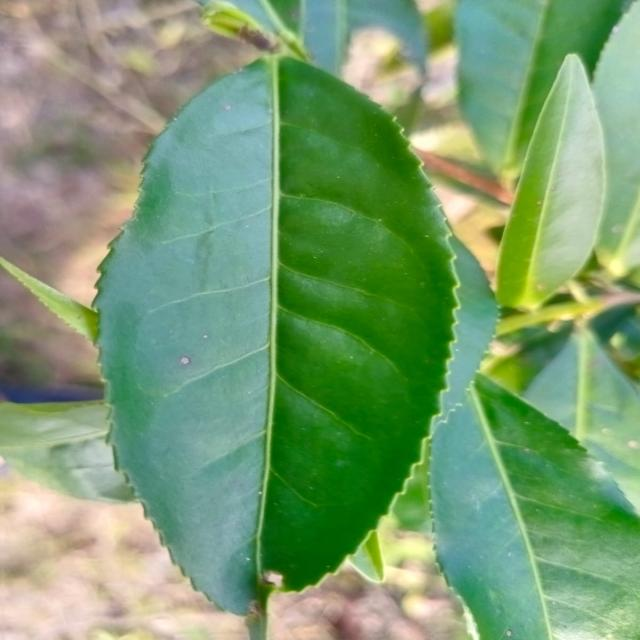Category D(7+ days, Not for Tea): (64, 47, 463, 637)
